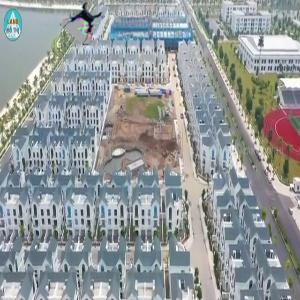drone: (66, 2, 105, 41)
